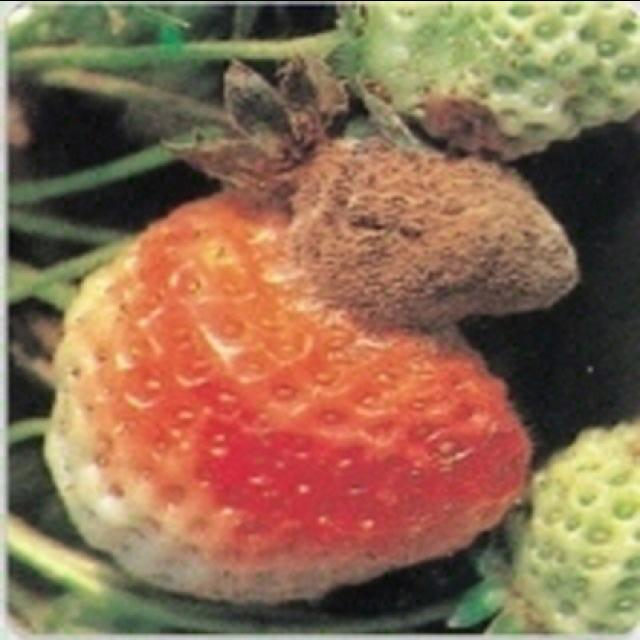Gray Mold: (163, 48, 581, 337)
